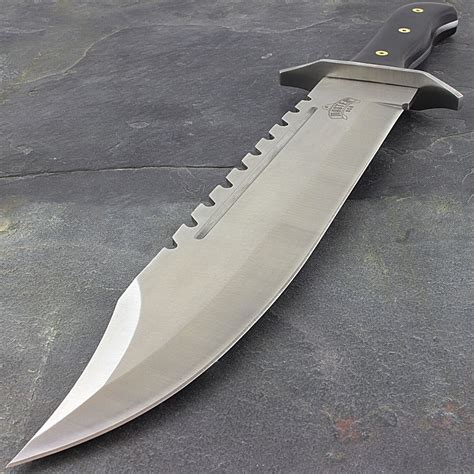knife: (4, 2, 460, 470)
